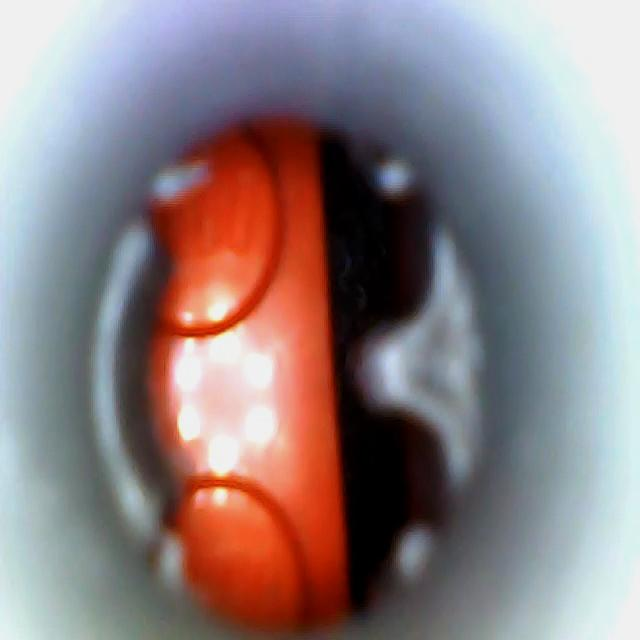studs: (156, 133, 282, 335), (180, 479, 312, 625)
